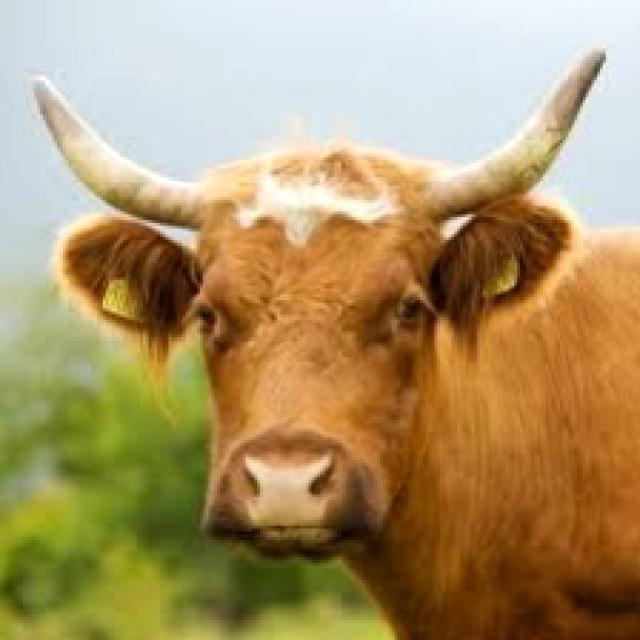bear: (86, 86, 640, 610)
